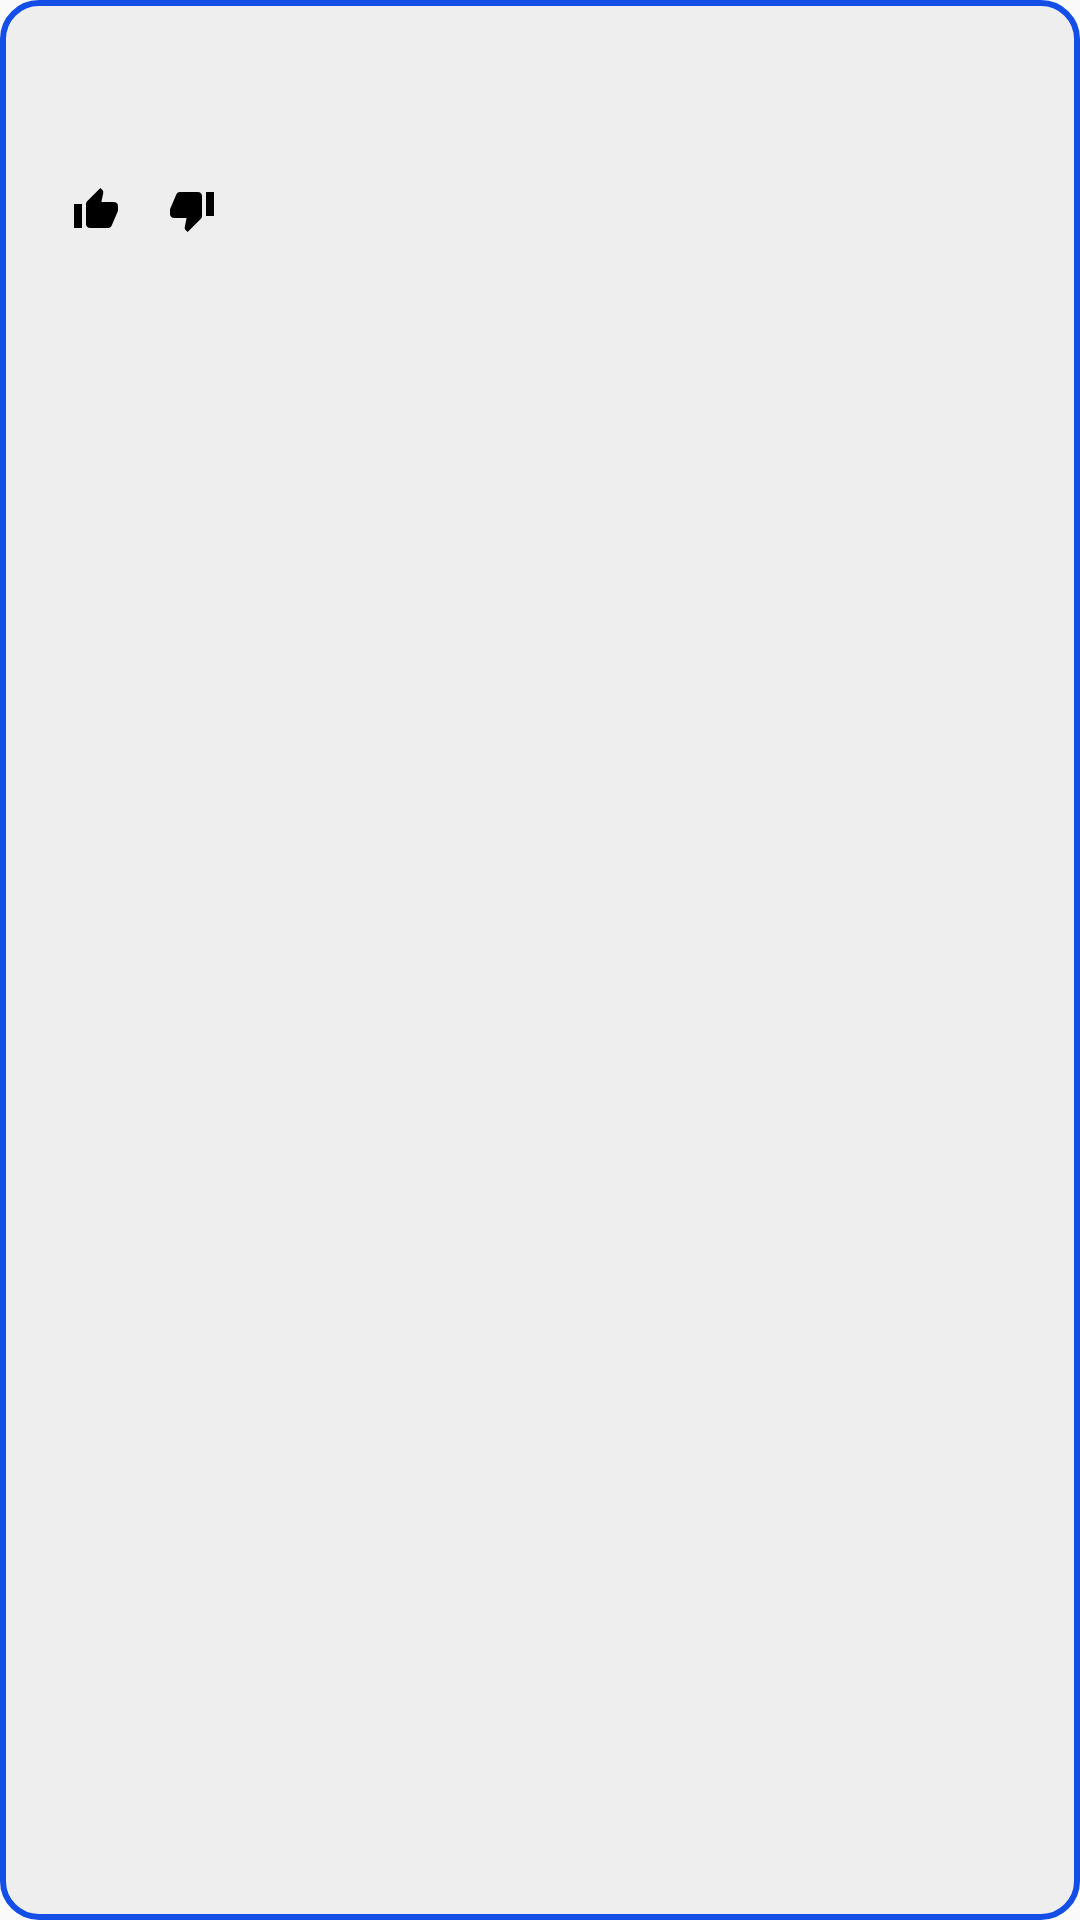

Screen size 1080×1920. Icon name, then its center in pixels as point (x, y):
Thumbs down: point (192, 212)
Thumbs up: point (96, 208)
